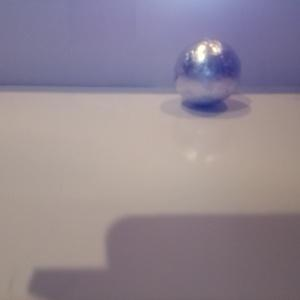alive_ball: (174, 39, 240, 105)
